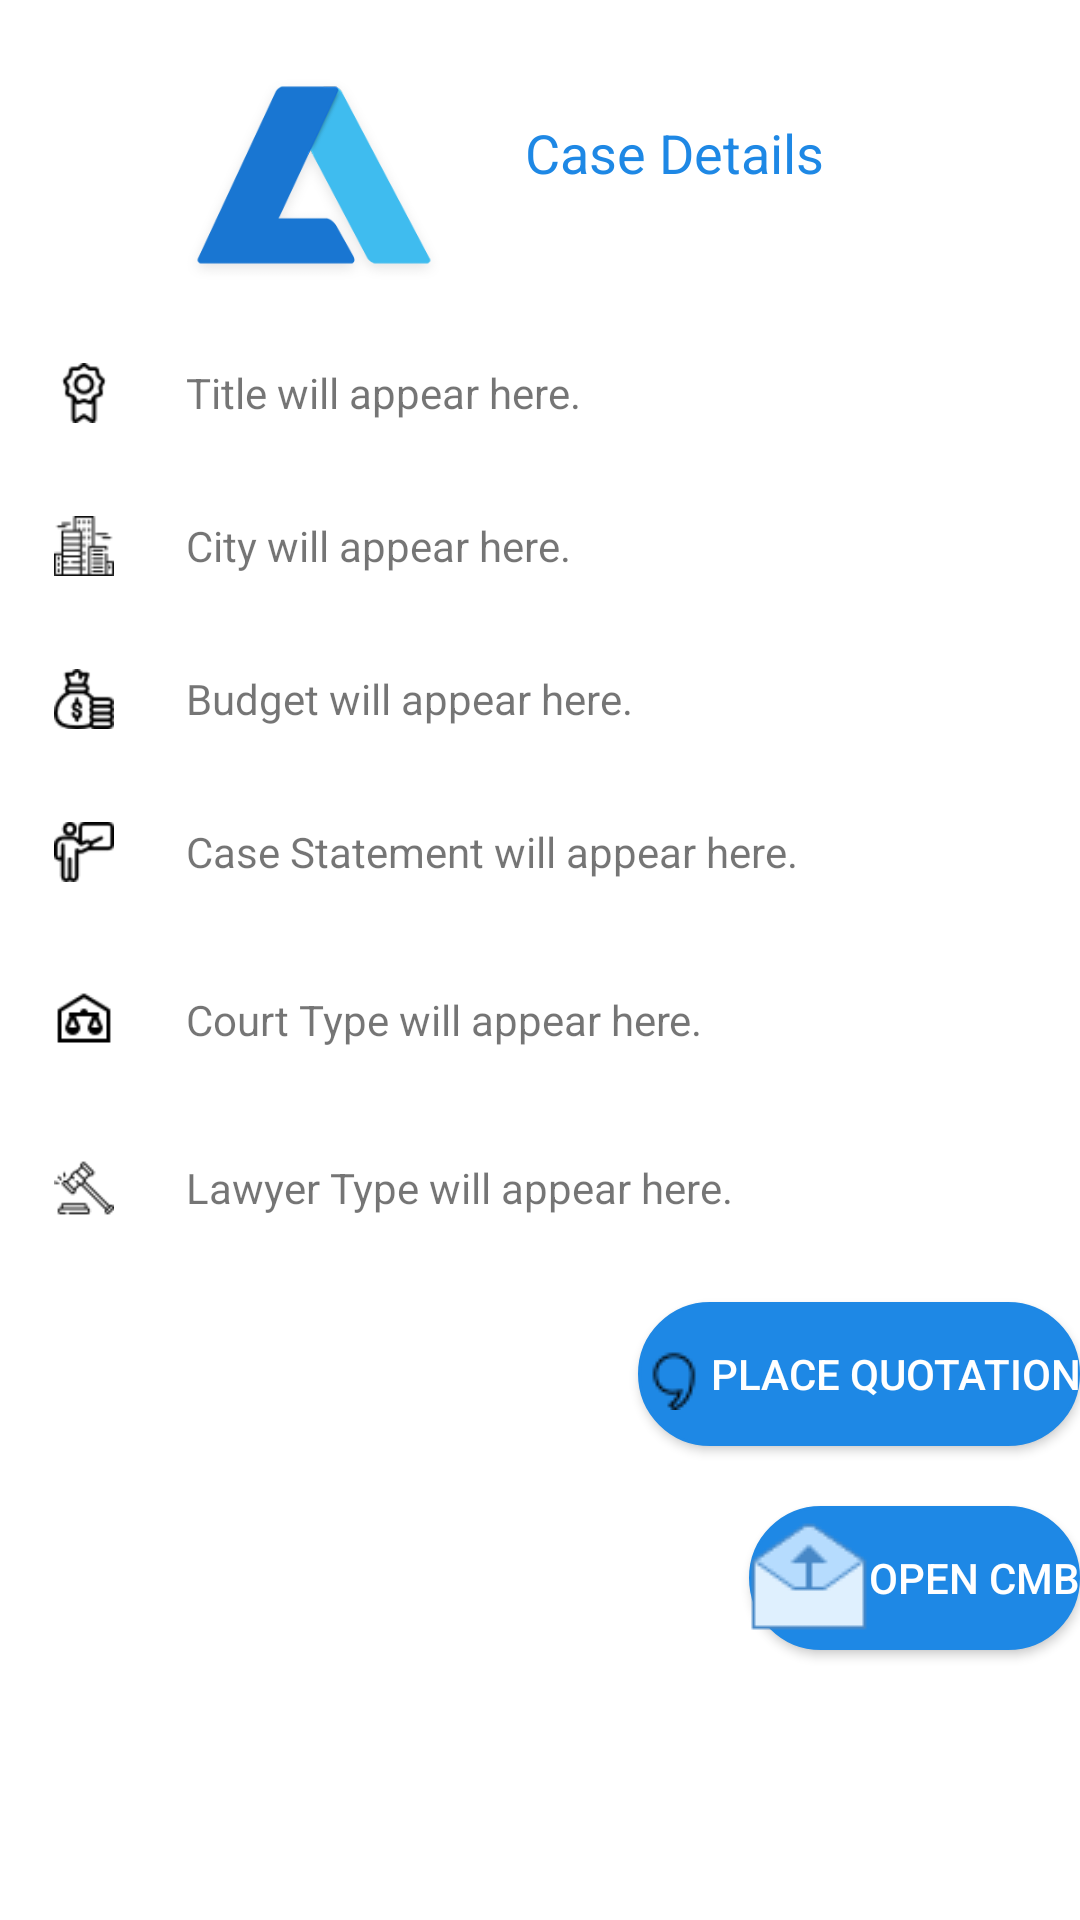

Locate icon controls on the screen. Image size 1080px x 1920px, boxes as (x1, y1, x2, y2).
cityscape: (54, 516, 114, 576)
courthouse: (57, 993, 111, 1043)
